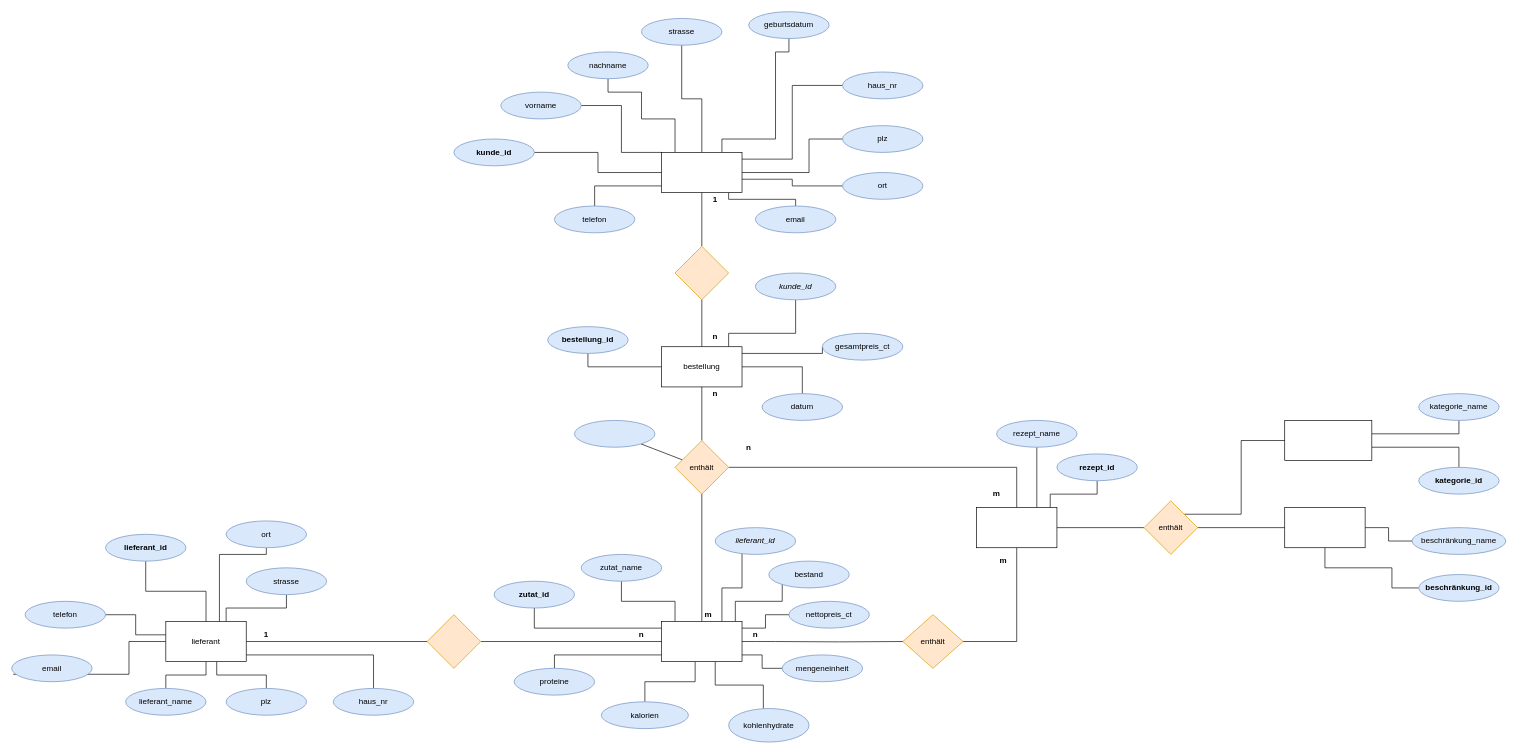
The diagram is 1518 pixels wide and 754 high, and some of its shapes have lost their labels. The shapes that lost their labels are listed below. From the top down, each one's box as (x1, y1, x2, y2) in pixels, then its label:
(661, 152, 742, 193): kunde
(674, 246, 729, 300): tätigt
(574, 420, 655, 447): menge_stück
(1284, 420, 1372, 461): ernährungskategorie
(976, 507, 1057, 548): rezept
(1284, 507, 1365, 548): beschränkung
(426, 614, 481, 668): liefert
(661, 621, 742, 662): zutat
